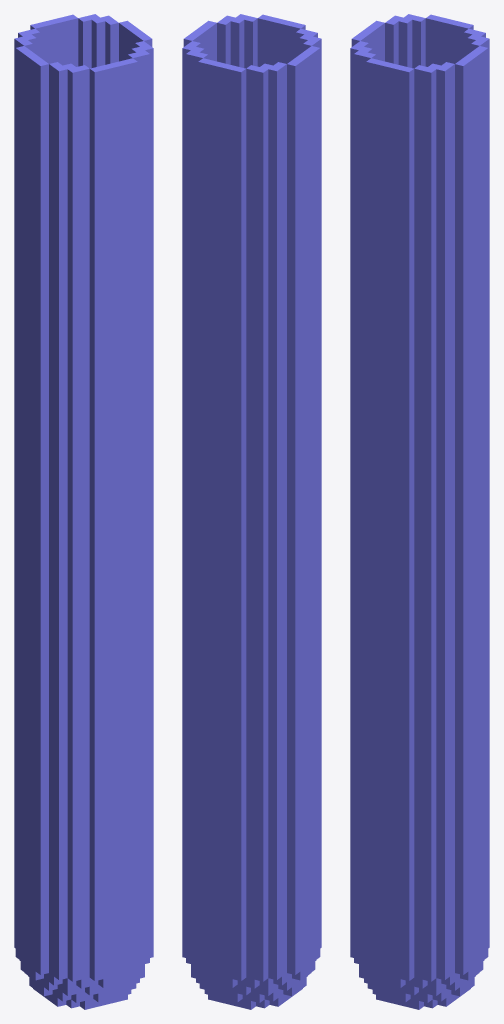
Rendered from Test Tube Rack2-7-1.fbx.
3 renders of one model, left to right at view 1: azimuth 30°, elevation 25°; view 2: azimuth 150°, elevation 25°; view 3: azimuth 330°, elevation 25°, orthographic.
Parts seen in each view (by area): view 1: Test Tube Rack2-7-1.001; view 2: Test Tube Rack2-7-1.001; view 3: Test Tube Rack2-7-1.001.
Part boxes in pixels (x1,y1,x2,y2): Test Tube Rack2-7-1.001: (14,14,153,1009); Test Tube Rack2-7-1.001: (182,14,321,1009); Test Tube Rack2-7-1.001: (350,14,489,1009).
Size of the model in its own units: 1.3 by 10.5 by 1.3.
